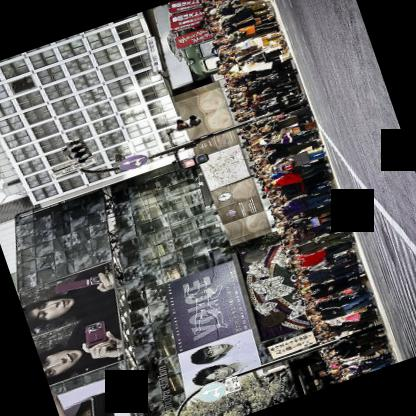backpack: (270, 159, 295, 174)
